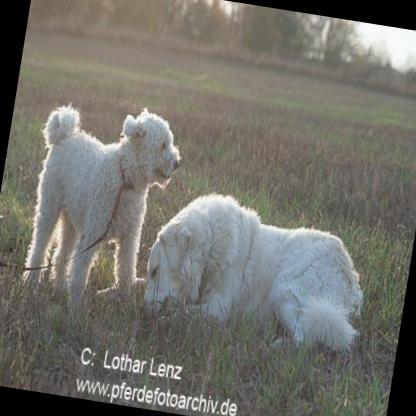kuvasz: (137, 182, 373, 350), (14, 92, 190, 317)
